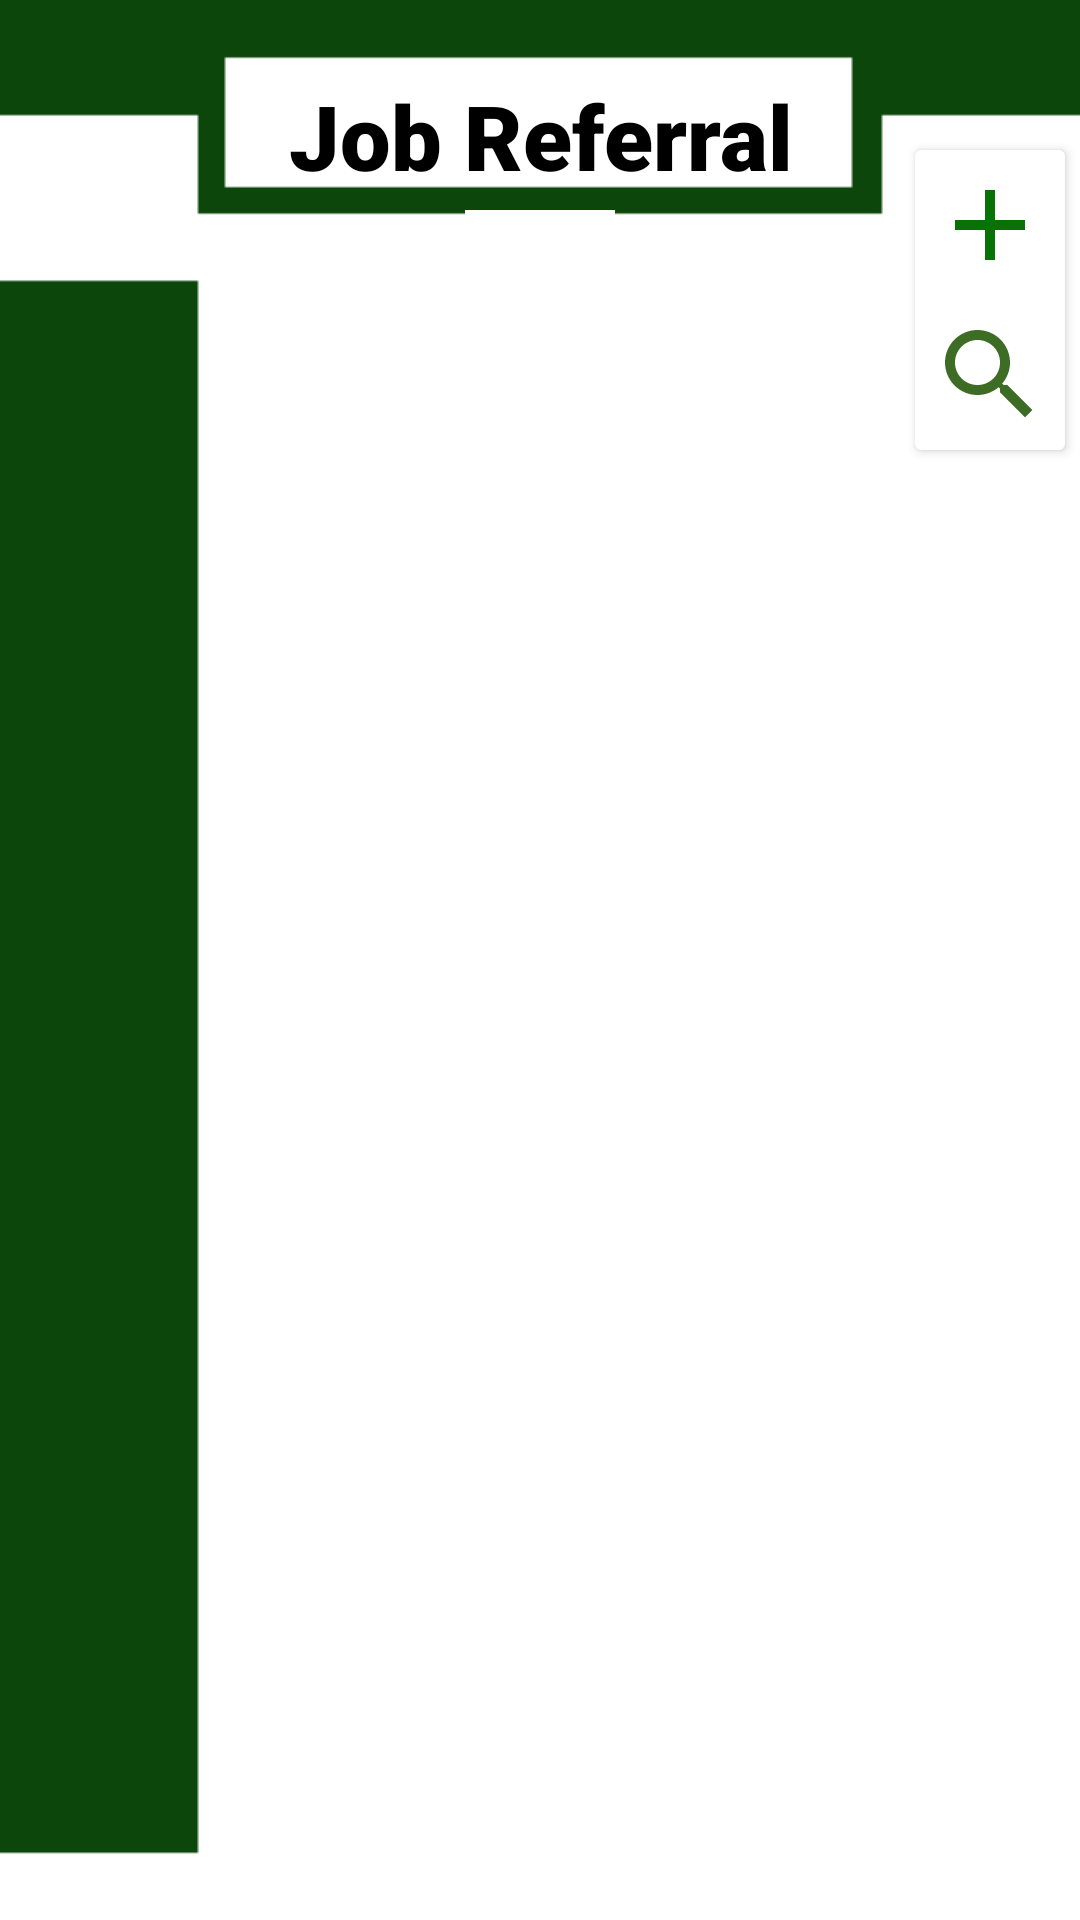

Named icons in this screenshot (1080px x 1920px) and their bounding boxes, (x1, y1, x2, y2):
add: (955, 190, 1025, 260)
search: (945, 330, 1032, 417)
